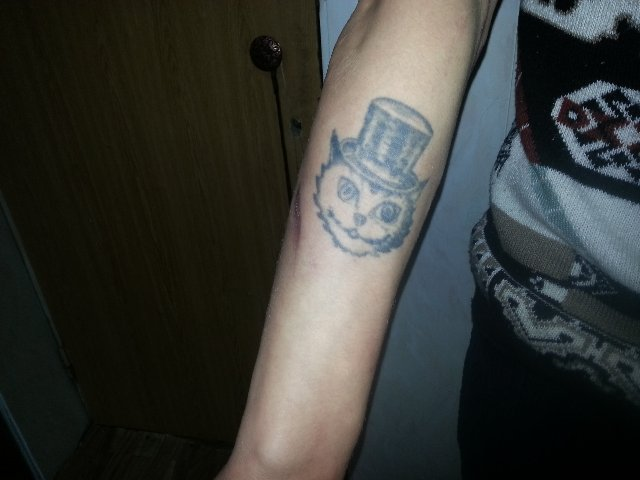tatu8_kot: (306, 91, 433, 269)
